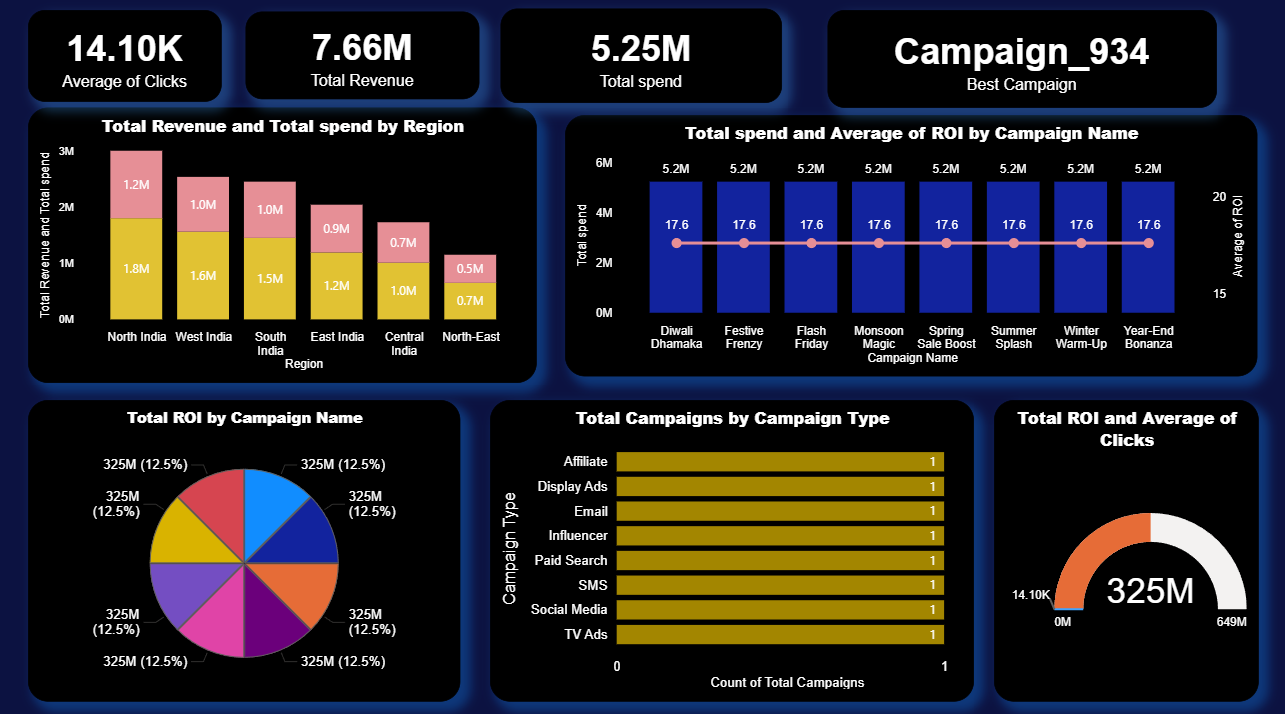

What the dashboard file says about the page in this screenshot:
{"tool":"powerbi","page":{"name":"Campaign Performance Overview","canvas":[1280,720],"ordinal":0},"visuals":[{"type":"columnChart","fields":{"Y":["Marketing Campaign Performance.Total Revenue","Marketing Campaign Performance.Total spend"],"Category":["Region Performance.Region"]},"box":[30.3,109,505.7,274.1],"z":0},{"type":"lineClusteredColumnComboChart","fields":{"Category":["Marketing Campaign Details.Campaign Name"],"Y":["Marketing Campaign Performance.Total spend"],"Y2":["Avg(Marketing Campaign Performance.Avg. ROI (%))"]},"box":[564.3,115.7,688.6,260],"z":1000},{"type":"pieChart","fields":{"Category":["Marketing Campaign Details.Campaign Name"],"Y":["Marketing Campaign Details.Total ROI"]},"box":[30.3,399.8,430,299.8],"z":2000},{"type":"barChart","title":" Total Campaigns by Campaign Type","fields":{"Category":["Marketing Campaign Details.Campaign Type"],"Y":["CountNonNull(Marketing Campaign Details.Total Campaigns)"]},"box":[489.1,399.8,481.5,299.8],"z":3000},{"type":"gauge","fields":{"TargetValue":["Avg(Marketing Campaign Performance.Clicks)"],"Y":["Marketing Campaign Details.Total ROI"]},"box":[990.3,399.8,263.5,299.8],"z":4000},{"type":"card","fields":{"Values":["Avg(Marketing Campaign Performance.Clicks)"]},"box":[30,11.4,192.9,91.4],"z":5000},{"type":"card","fields":{"Values":["Marketing Campaign Performance.Total Revenue"]},"box":[245.7,12.9,232.9,87.1],"z":6000},{"type":"card","fields":{"Values":["Marketing Campaign Performance.Total spend"]},"box":[500,10,280,94.3],"z":7000},{"type":"card","fields":{"Values":["Marketing Campaign Details.Best Campaign"]},"box":[824.3,11.4,387.1,97.1],"z":8000}]}

Visuals, with their boxes in screenshot pixels (x1, y1, x2, y2), scaled from the page's 1280x720 canvas onto the 1285x714 screenshot:
columnChart - Marketing Campaign Performance.Total Revenue x Marketing Campaign Performance.Total spend: (left=30, top=108, right=538, bottom=380)
lineClusteredColumnComboChart - Marketing Campaign Details.Campaign Name x Marketing Campaign Performance.Total spend: (left=567, top=115, right=1258, bottom=373)
pieChart - Marketing Campaign Details.Campaign Name x Marketing Campaign Details.Total ROI: (left=30, top=396, right=462, bottom=694)
" Total Campaigns by Campaign Type" barChart: (left=491, top=396, right=974, bottom=694)
gauge - Avg(Marketing Campaign Performance.Clicks) x Marketing Campaign Details.Total ROI: (left=994, top=396, right=1259, bottom=694)
card - Avg(Marketing Campaign Performance.Clicks): (left=30, top=11, right=224, bottom=102)
card - Marketing Campaign Performance.Total Revenue: (left=247, top=13, right=480, bottom=99)
card - Marketing Campaign Performance.Total spend: (left=502, top=10, right=783, bottom=103)
card - Marketing Campaign Details.Best Campaign: (left=828, top=11, right=1216, bottom=108)
